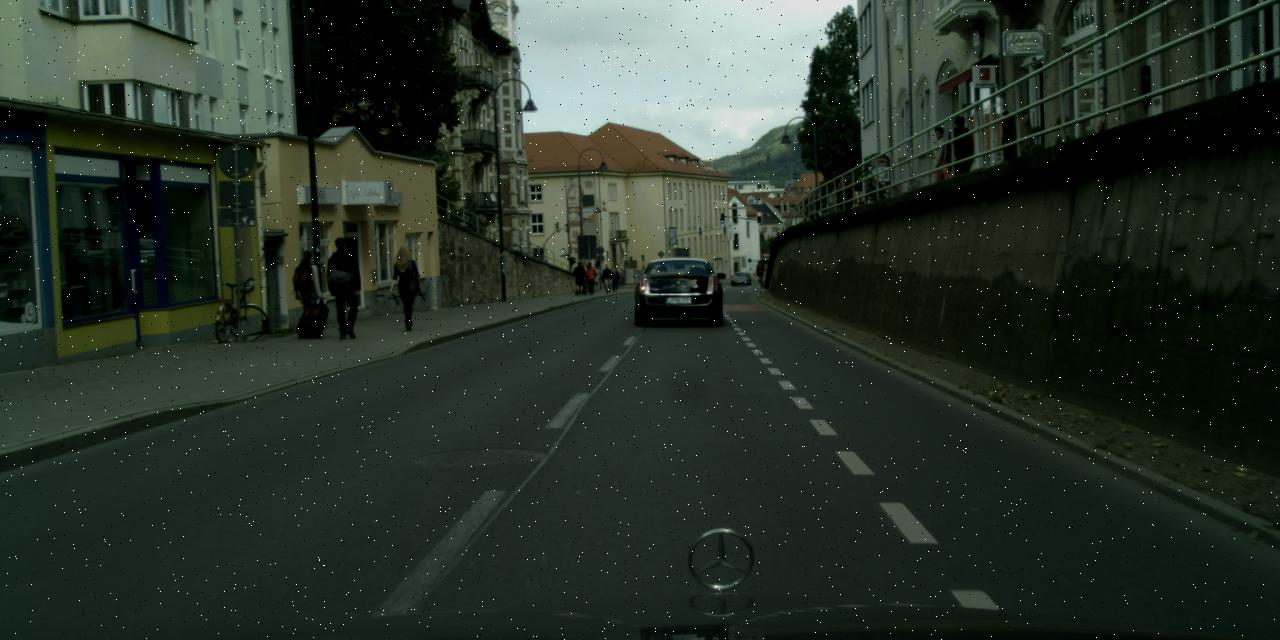ped: (322, 235, 364, 338), (941, 116, 976, 200), (388, 246, 423, 330), (292, 250, 326, 331), (924, 126, 951, 193), (832, 171, 852, 219), (584, 262, 597, 294), (573, 261, 586, 293), (602, 264, 612, 290), (610, 268, 619, 291)
